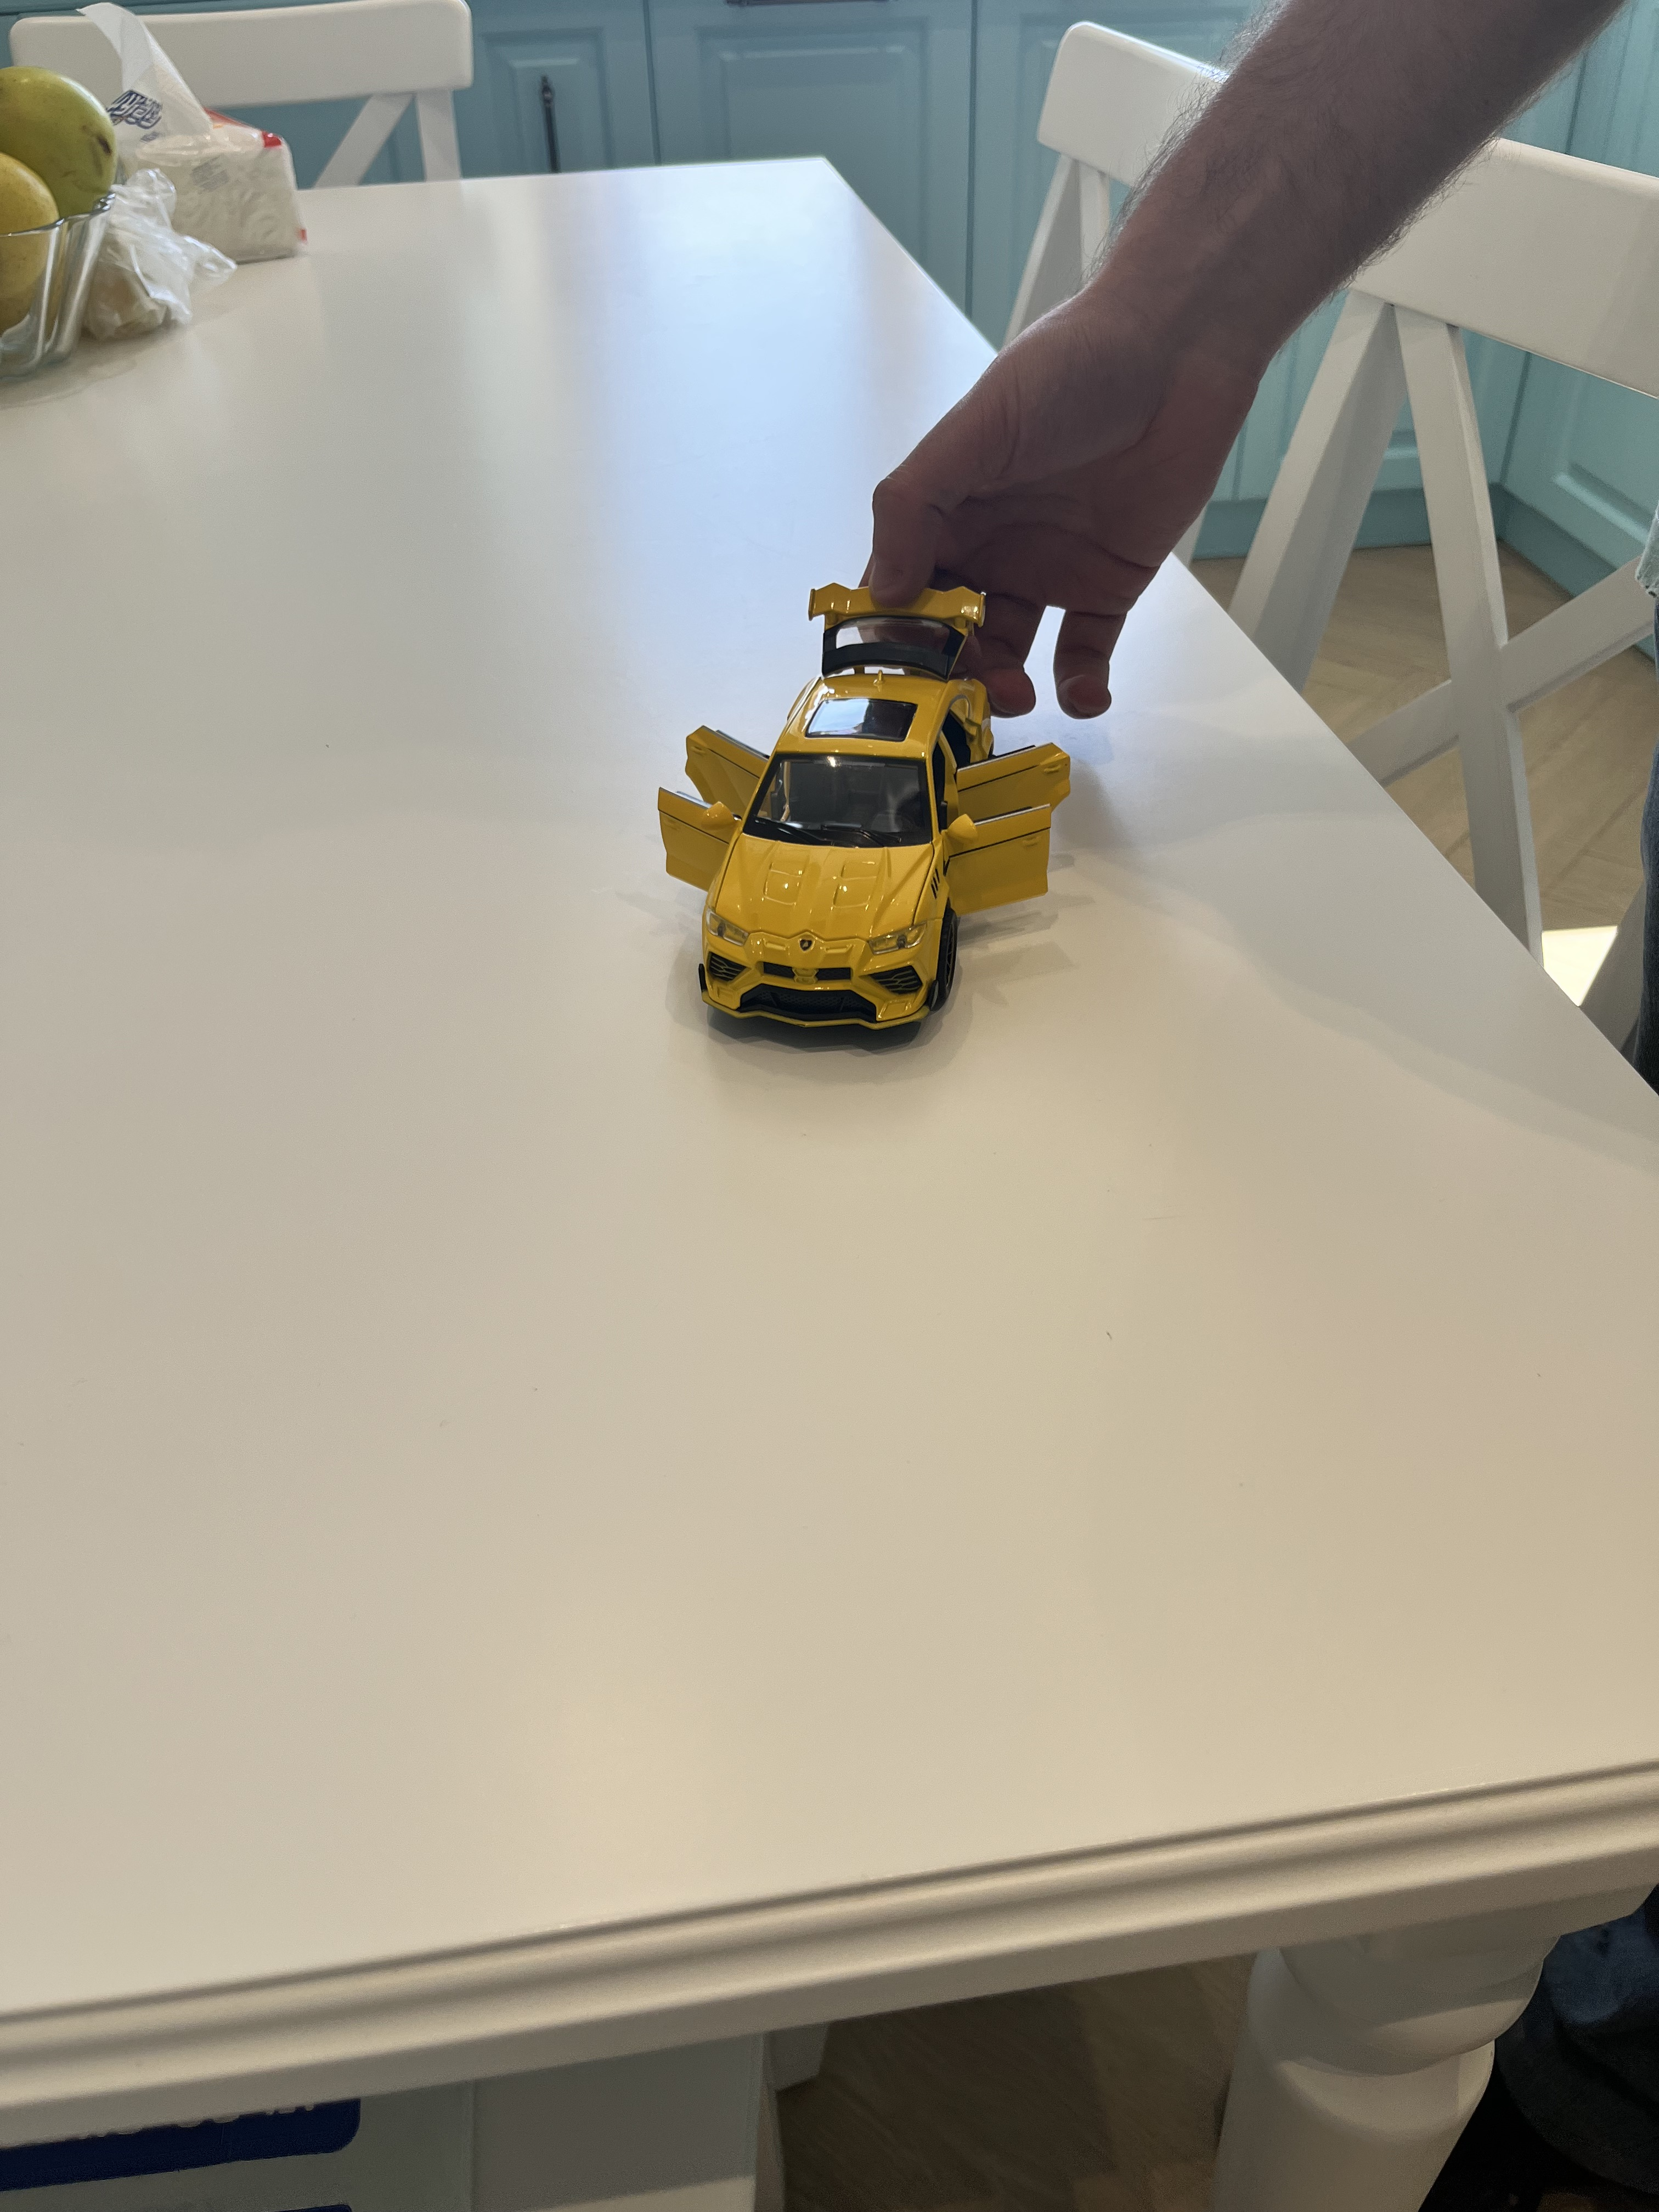lambo: (634, 554, 1066, 1057)
